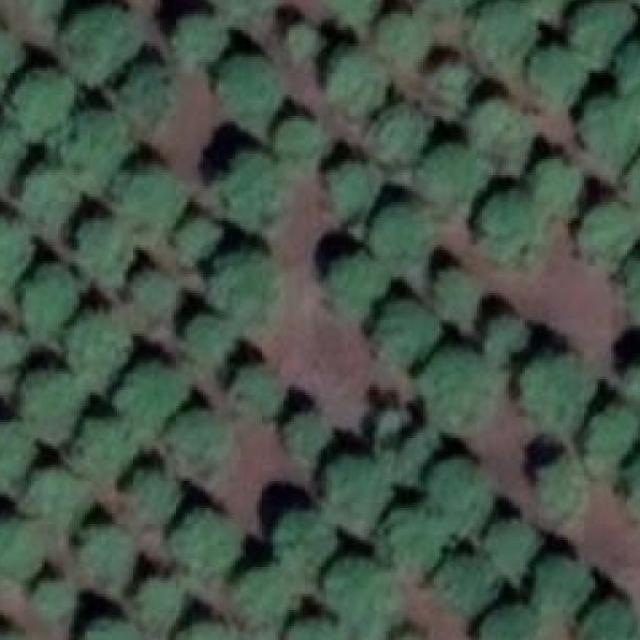Tree: (518, 349, 596, 433), (426, 352, 502, 436), (58, 3, 136, 82), (69, 106, 136, 194), (466, 98, 539, 173), (476, 191, 546, 266), (571, 0, 640, 73), (328, 570, 402, 638), (429, 456, 496, 530), (28, 368, 90, 442), (230, 148, 287, 227), (122, 361, 192, 425), (378, 513, 448, 576), (377, 205, 439, 275), (477, 1, 539, 71), (378, 302, 442, 369), (31, 470, 99, 533), (232, 572, 294, 640), (330, 49, 394, 114), (276, 511, 340, 576), (530, 551, 595, 615), (579, 205, 640, 273), (326, 253, 389, 318), (176, 513, 241, 576), (328, 462, 391, 524), (219, 57, 281, 119), (82, 419, 144, 481), (582, 406, 639, 473), (74, 306, 126, 379), (176, 416, 235, 476), (582, 100, 639, 162), (20, 264, 74, 329), (375, 424, 442, 476), (326, 162, 384, 221), (418, 152, 477, 210), (214, 256, 278, 309), (180, 8, 237, 66), (369, 106, 426, 164), (82, 526, 133, 589), (20, 162, 74, 221), (13, 73, 72, 127), (128, 173, 181, 232), (79, 218, 128, 280), (534, 46, 582, 109), (170, 218, 228, 270), (235, 365, 292, 417), (0, 515, 47, 578), (192, 315, 249, 366), (378, 11, 432, 62), (576, 597, 640, 640), (488, 519, 539, 572), (133, 578, 185, 629), (445, 556, 496, 608), (437, 266, 485, 320), (541, 459, 584, 518), (133, 474, 179, 527), (536, 157, 582, 210), (289, 411, 332, 463), (0, 210, 34, 274), (428, 62, 477, 106), (0, 421, 34, 484), (276, 116, 322, 162), (133, 66, 171, 119), (133, 270, 176, 316), (488, 314, 534, 356), (477, 610, 541, 640), (34, 581, 78, 624), (618, 448, 640, 532), (0, 125, 29, 182), (0, 326, 29, 382), (286, 19, 326, 57), (621, 40, 640, 119), (76, 617, 141, 640), (313, 0, 381, 19), (621, 255, 640, 320), (621, 352, 640, 414), (621, 148, 640, 207), (0, 35, 20, 89), (180, 623, 238, 640), (281, 623, 335, 640), (225, 0, 278, 17), (20, 0, 66, 19), (421, 0, 491, 9), (525, 0, 584, 9), (396, 631, 432, 640)
